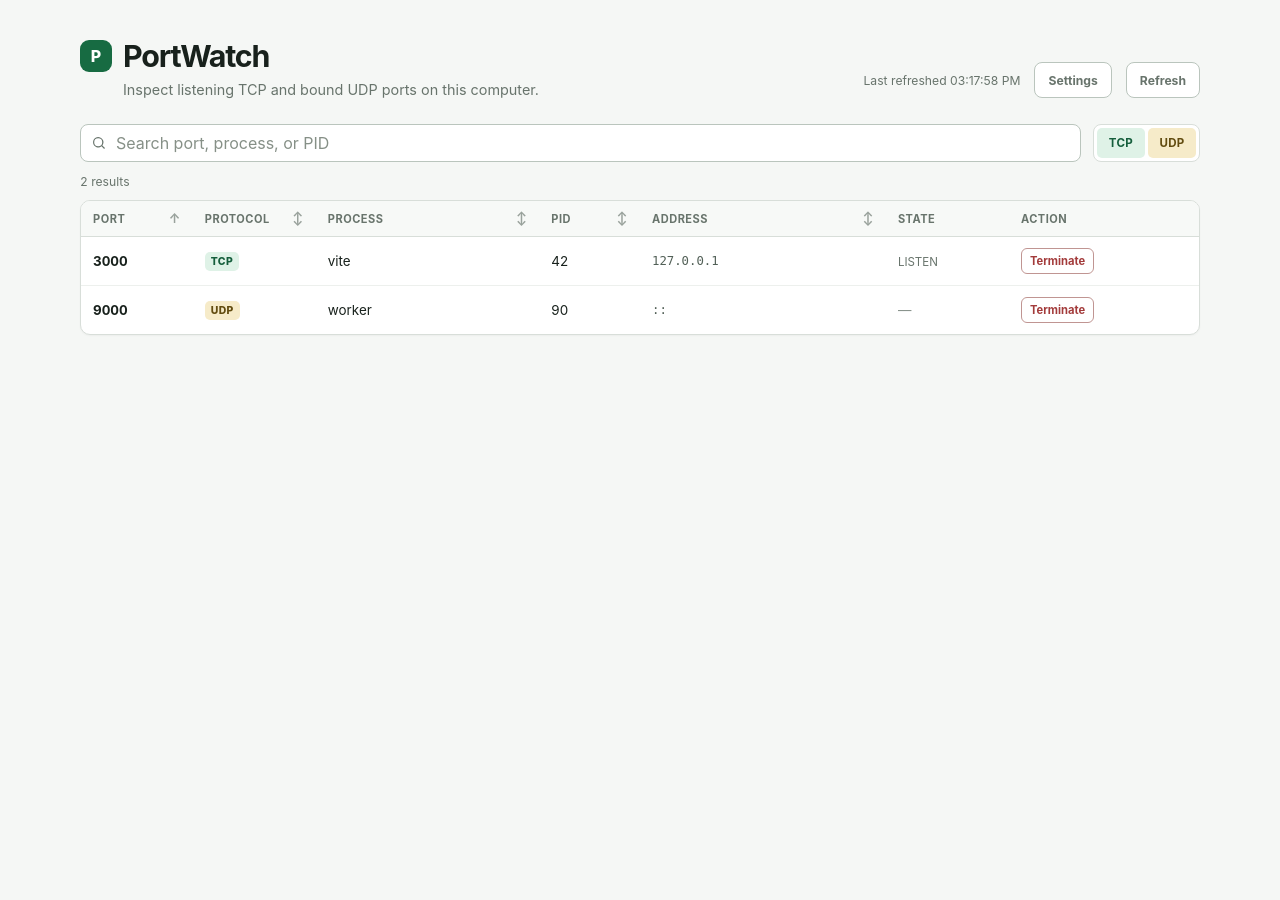
Test: full view › shows a focused, keyboard-dismissible confirmation before terminating
Expected: the text "vite" is shown, [328,253,351,269]
Click the button with aria-label "Terminate vite on port 3000" at (1058, 261), box [1021,248,1094,274]
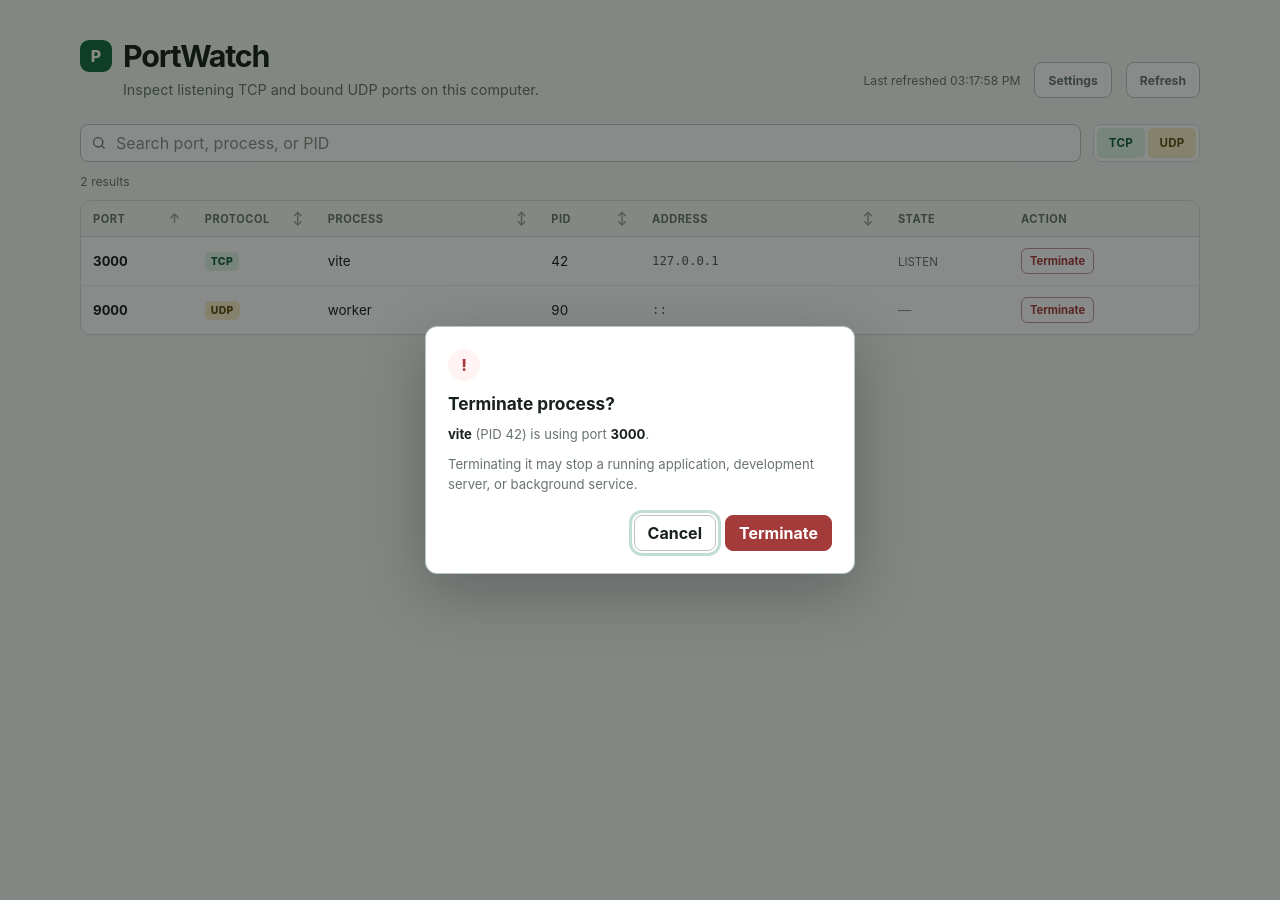
Expected: the dialog "Terminate process?" shows "vite (PID 42) is using port 3000", [425,326,855,574]
Press Escape
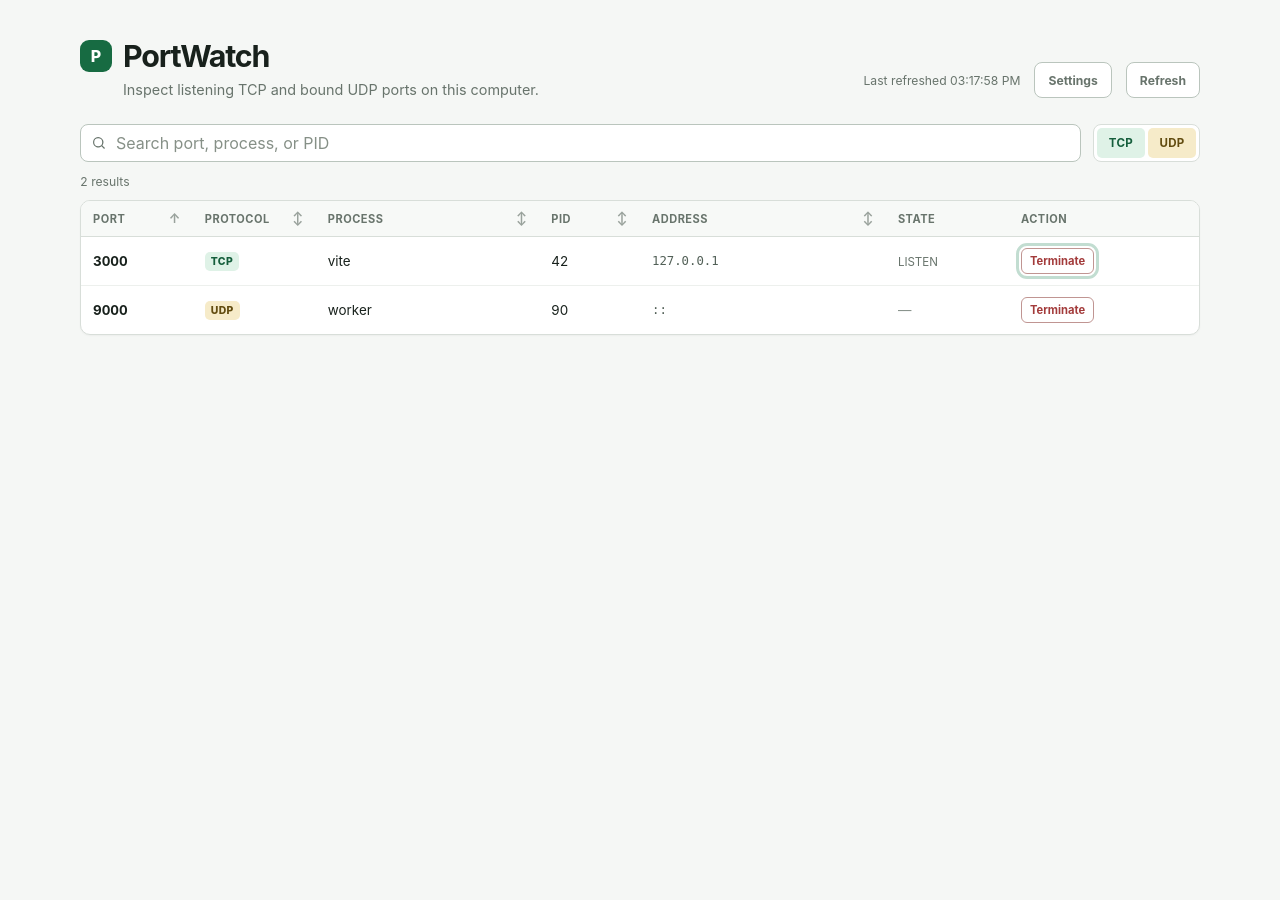
Expected: the dialog is gone
